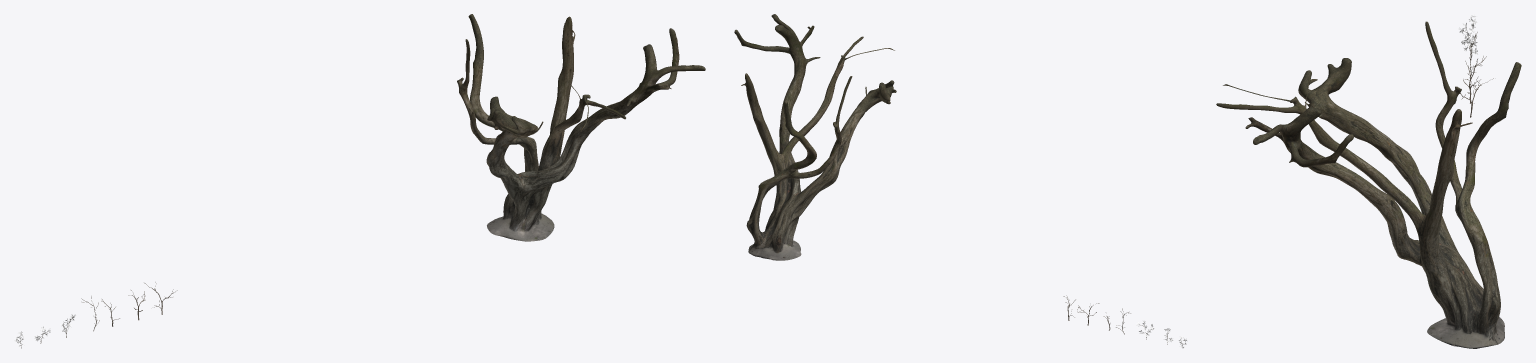
Rendered from tree.glb.
The picture shows the model from 3 angles, left to right: view 1: azimuth 30°, elevation 25°; view 2: azimuth 150°, elevation 25°; view 3: azimuth 270°, elevation 25°; orthographic projection. The views are drawn at different scales.
Parts seen in each view (by area): view 1: island_tree_02; view 2: island_tree_02; view 3: island_tree_02.
Boxes of the visible parts, x1,y1,x2,y2 form: island_tree_02: (457, 14, 705, 241); island_tree_02: (734, 14, 896, 260); island_tree_02: (1216, 21, 1521, 348).
Bounding box in the file's own units: 7.57 × 2.62 × 2.72.
Materials: 3 (2 with a texture image).
